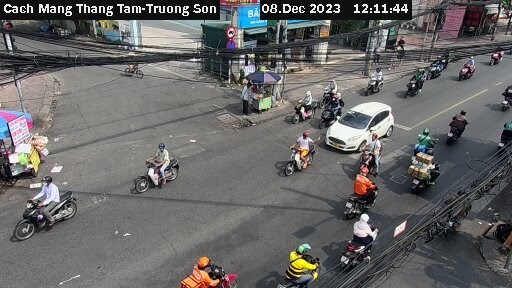car: (327, 100, 396, 151)
motorbike: (12, 173, 83, 245), (129, 146, 189, 196), (331, 214, 385, 267), (278, 244, 322, 288), (341, 165, 381, 211), (282, 131, 322, 174), (407, 153, 443, 196), (356, 135, 396, 173), (441, 106, 474, 141), (406, 120, 438, 153), (418, 52, 450, 85), (401, 69, 435, 99), (283, 92, 318, 121), (315, 79, 353, 104), (360, 66, 390, 96), (456, 52, 483, 81), (486, 41, 511, 68), (499, 81, 512, 106)
